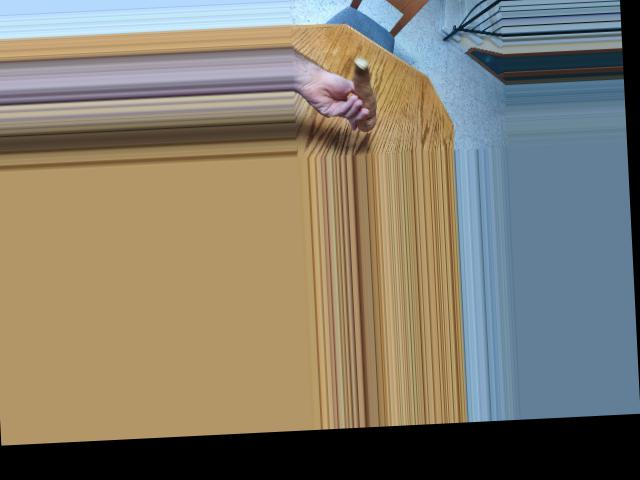sweet_potato: (345, 55, 378, 129)
